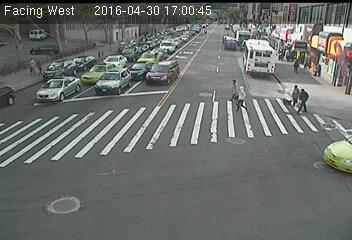neg: (324, 140, 347, 171), (49, 188, 72, 217), (227, 143, 248, 171), (33, 115, 50, 138), (177, 102, 193, 124), (91, 43, 106, 63), (173, 57, 188, 76), (210, 46, 222, 61), (250, 52, 260, 66), (163, 17, 173, 30), (130, 29, 140, 41), (249, 25, 258, 37), (218, 15, 226, 26)
pos: (231, 83, 253, 112), (294, 86, 314, 114), (225, 77, 244, 102), (287, 82, 306, 107), (25, 57, 40, 77), (291, 56, 304, 74), (313, 62, 326, 79), (35, 61, 47, 76)
